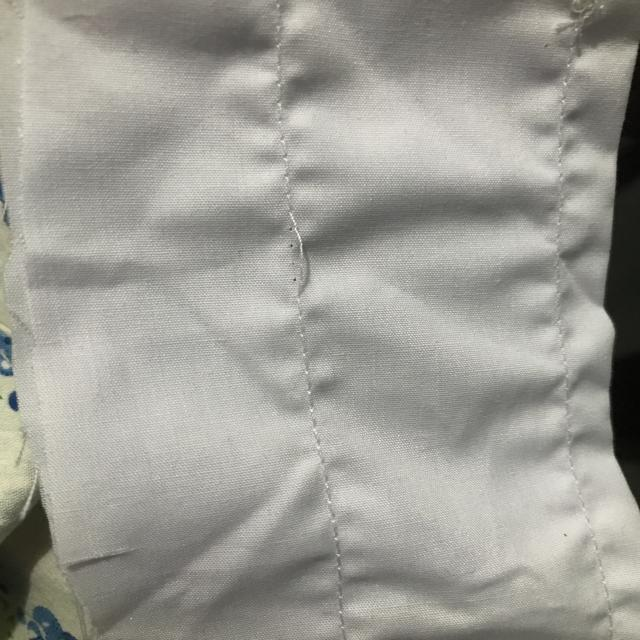good: (287, 363, 344, 492)
skip: (278, 196, 326, 310)
